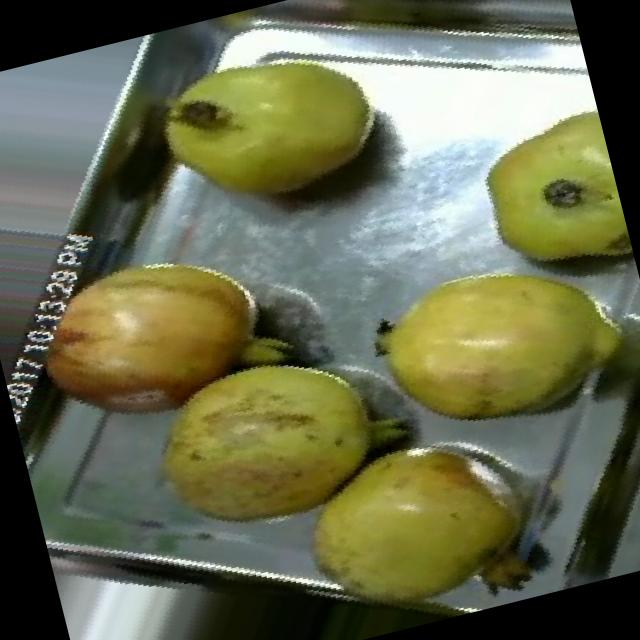fruit: (113, 280, 457, 582), (324, 204, 640, 493), (0, 206, 302, 469), (119, 0, 418, 245), (437, 85, 638, 312)
